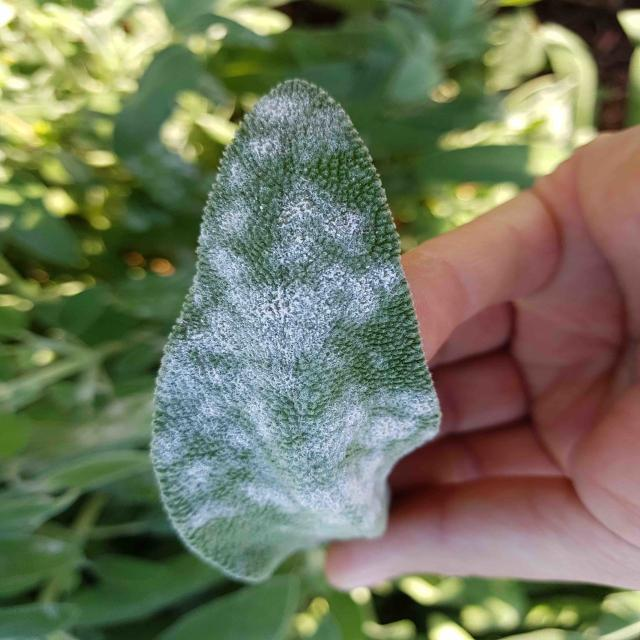Powdery Mildew: (147, 77, 444, 584)
